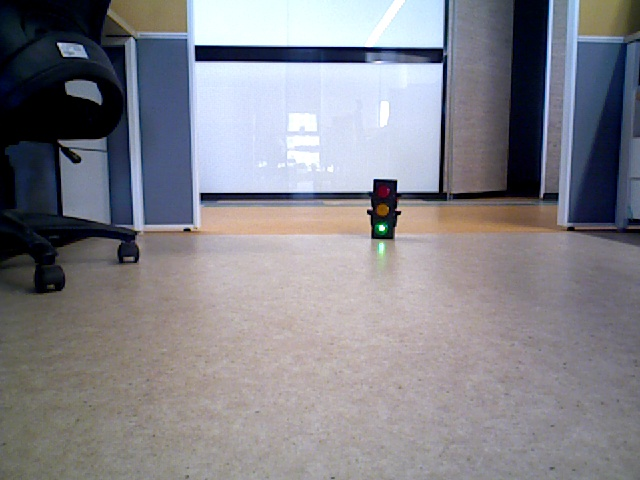green: (373, 181, 394, 236)
